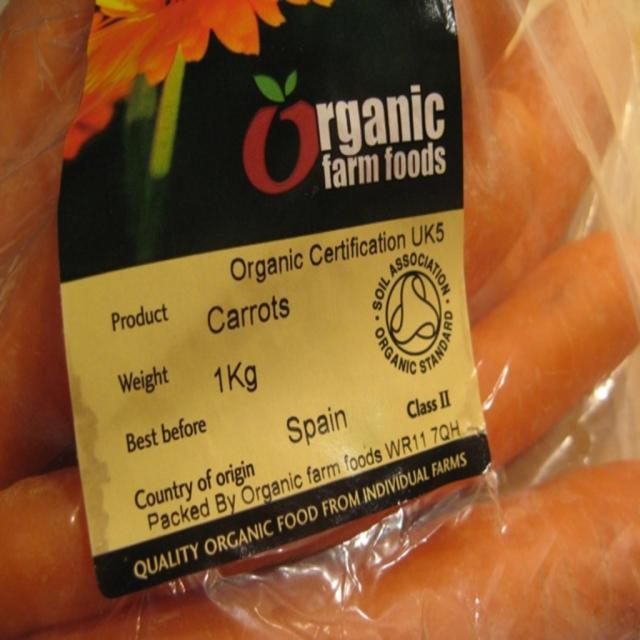carrot: (22, 432, 639, 638)
